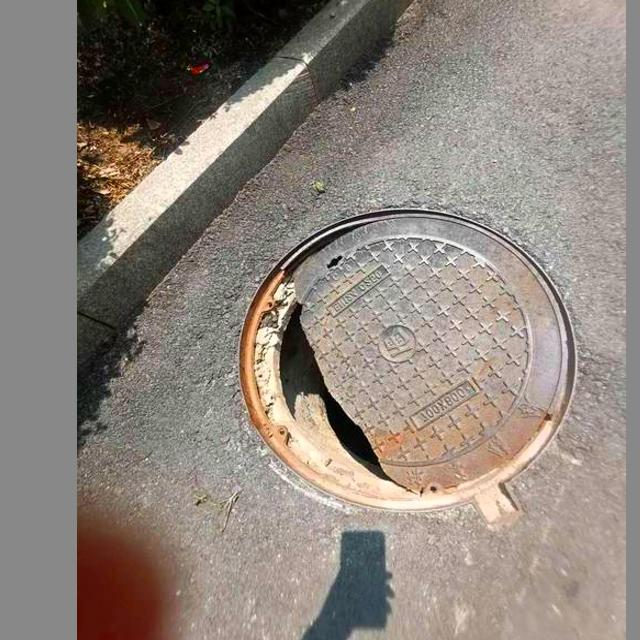broke: (229, 188, 586, 524)
